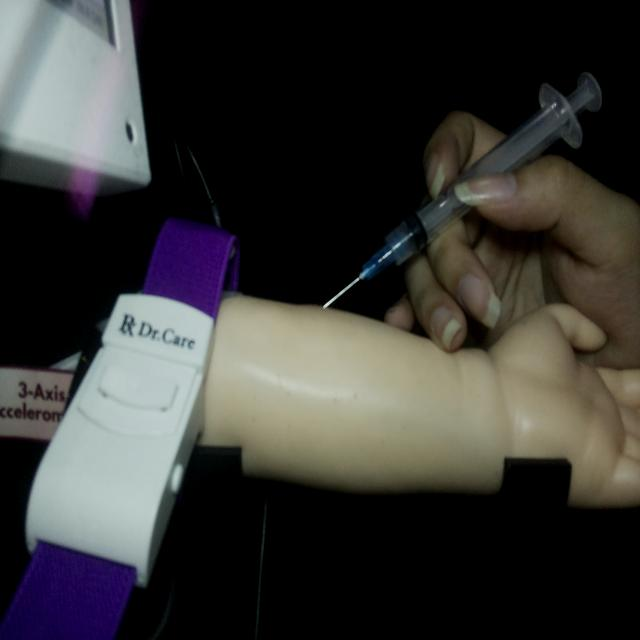28 degrees: (321, 68, 603, 312)
